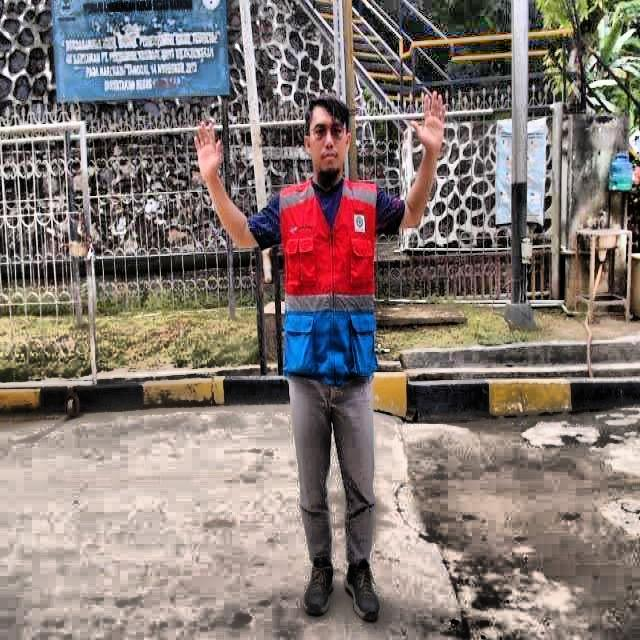safety_jacket: (277, 177, 385, 379)
